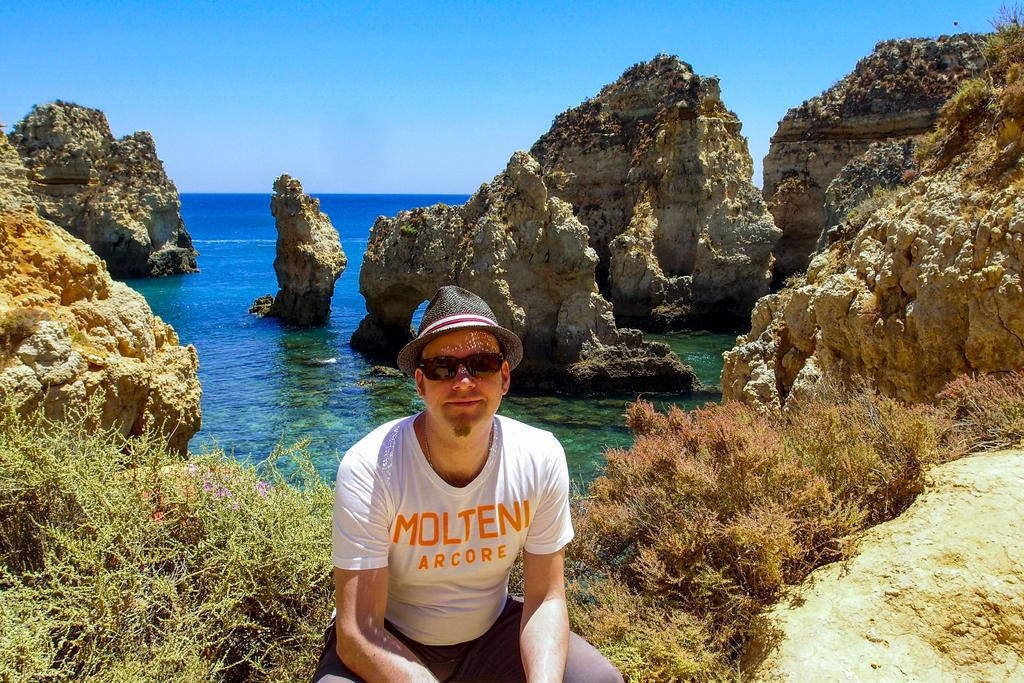Hat: (390, 282, 520, 370)
